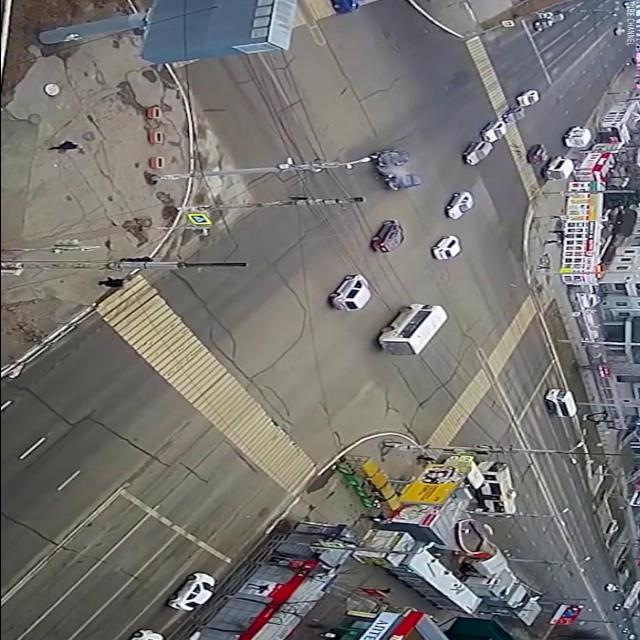accident: (360, 139, 428, 197)
non_accident: (449, 89, 547, 171), (323, 1, 391, 27)
